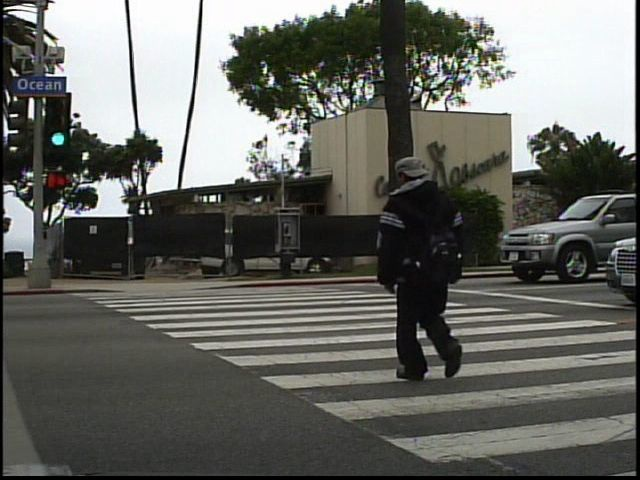person: (375, 140, 479, 391)
